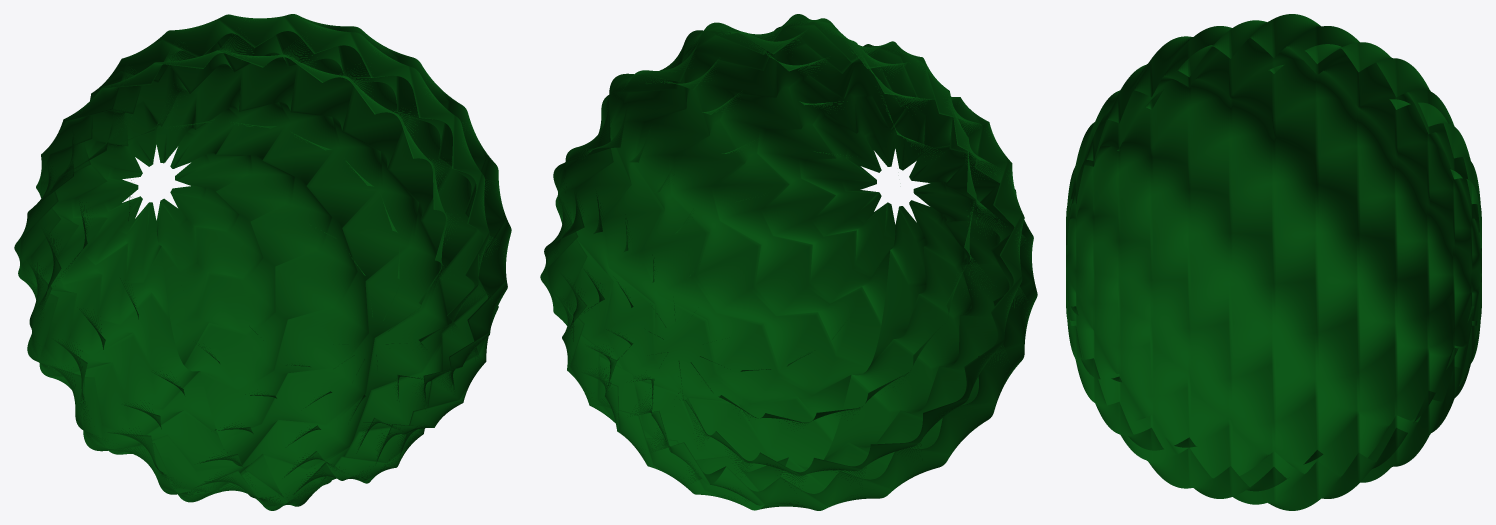
The model's file is sketchfab-virus-capsid.glb.
3 renders of one model, left to right at view 1: azimuth 30°, elevation 25°; view 2: azimuth 150°, elevation 25°; view 3: azimuth 270°, elevation 25°, orthographic. The views are drawn at different scales.
Visible parts, largest first — view 1: MathShape_0; view 2: MathShape_0; view 3: MathShape_0.
Part boxes in pixels (x1,y1,x2,y2): MathShape_0: (14, 14, 511, 510); MathShape_0: (540, 14, 1037, 510); MathShape_0: (1066, 14, 1481, 510).
Size of the model in its own units: 2.38 by 2.34 by 2.
